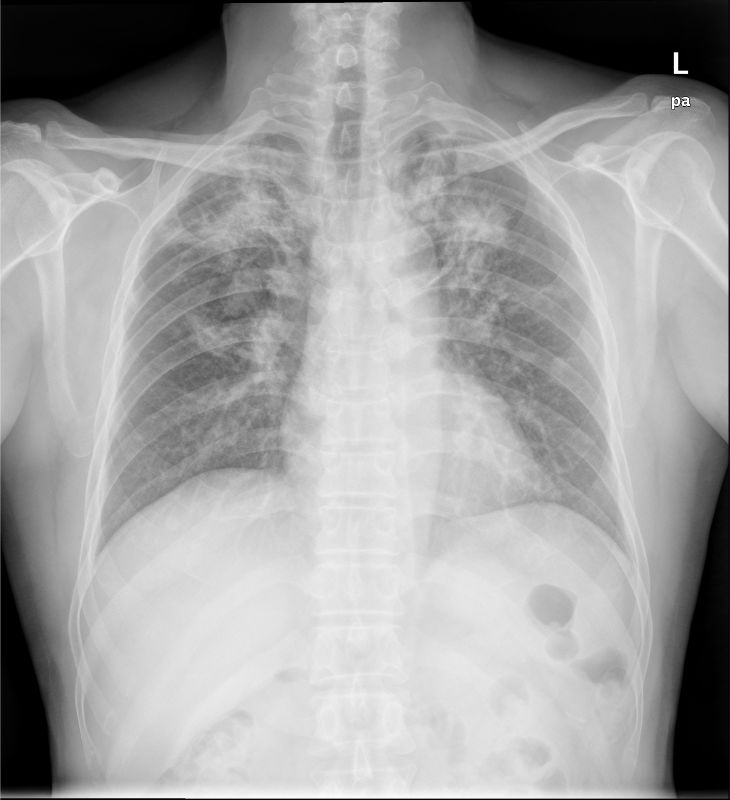Tuberculosis (TB): (166, 166, 286, 392), (436, 174, 519, 284)
